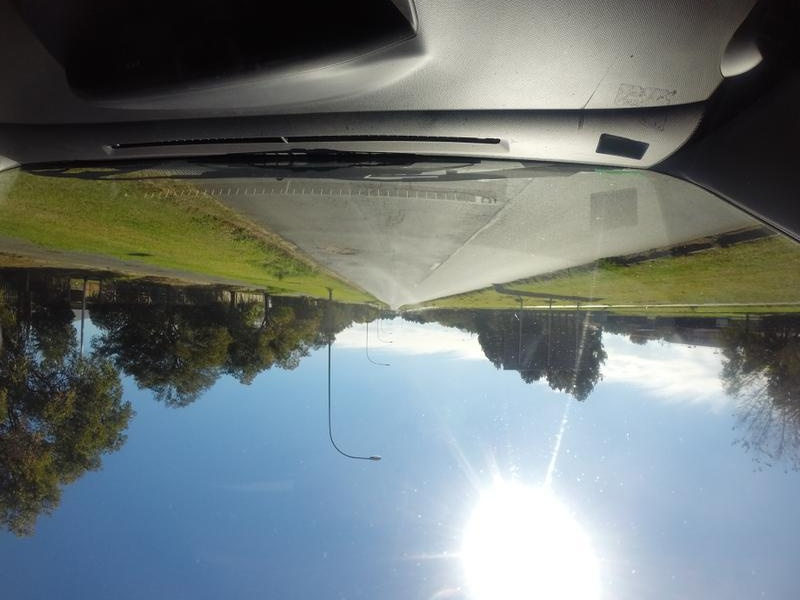pothole: (325, 244, 374, 258)
